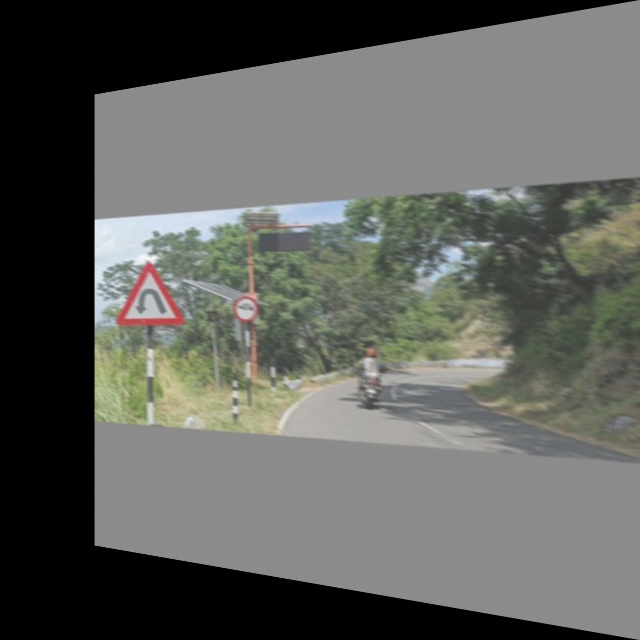Left_Hair_Pin_Bend: (116, 259, 183, 329)
